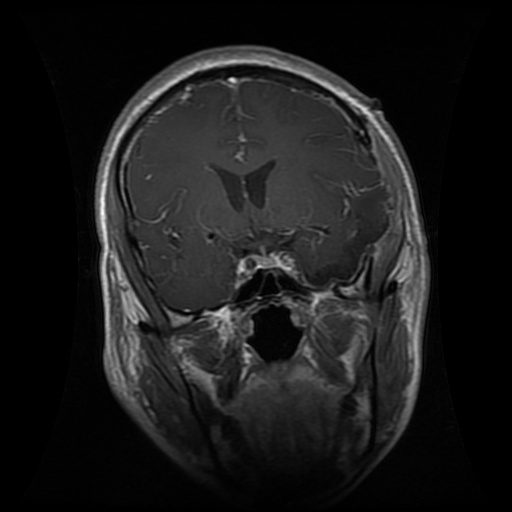glioma: (316, 184, 390, 285)
